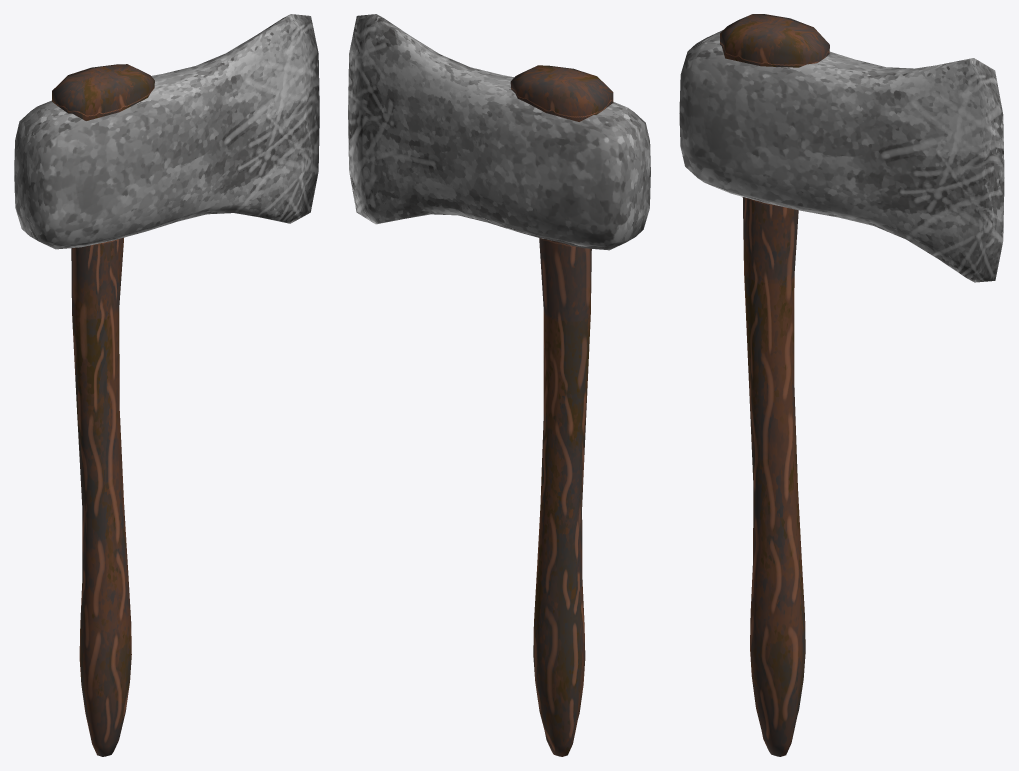
File: Axe_Cvl_12-11.fbx
3 renders of one model, left to right at view 1: azimuth 30°, elevation 25°; view 2: azimuth 150°, elevation 25°; view 3: azimuth 330°, elevation 25°, orthographic. The views are drawn at different scales.
Visible parts, largest first — view 1: Cube.004; view 2: Cube.004; view 3: Cube.004.
Boxes of the visible parts, left/top/right/bottom form: Cube.004: left=14, top=14, right=319, bottom=756; Cube.004: left=348, top=14, right=650, bottom=756; Cube.004: left=679, top=14, right=1004, bottom=756.
Bounding box in the file's own units: 436 × 981 × 103.
Materials: 1 (1 with a texture image).
